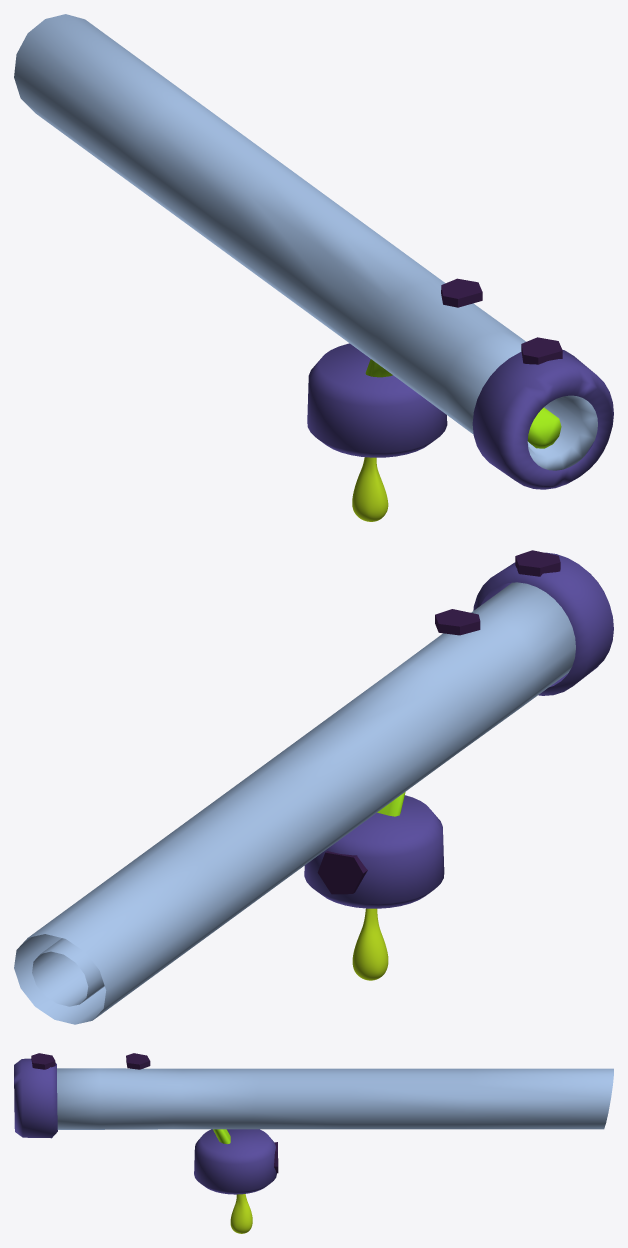
The model's file is enter_Alt.fbx.
3 renders of one model, top to bottom at view 1: azimuth 30°, elevation 25°; view 2: azimuth 150°, elevation 25°; view 3: azimuth 270°, elevation 25°, orthographic. The views are drawn at different scales.
Visible parts, largest first — view 1: Vert.005, Circle.020, Circle, Cube.176, Vert.025, Vert.022, Vert.020; view 2: Vert.005, Circle, Circle.020, Cube.176, Vert.019, Vert.022, Vert.020; view 3: Vert.005, Circle, Circle.020, Cube.176, Vert.022, Vert.020.
Boxes of the visible parts, <box> form: Vert.005: <box>14,14,597,470</box>; Circle.020: <box>472,349,613,489</box>; Circle: <box>307,343,447,457</box>; Cube.176: <box>352,457,388,521</box>; Vert.025: <box>365,359,561,448</box>; Vert.022: <box>441,278,482,307</box>; Vert.020: <box>521,337,562,364</box>; Vert.005: <box>14,582,575,1024</box>; Circle: <box>304,795,444,908</box>; Circle.020: <box>473,552,613,695</box>; Cube.176: <box>352,908,388,980</box>; Vert.019: <box>317,851,367,894</box>; Vert.022: <box>435,609,480,635</box>; Vert.020: <box>515,550,560,576</box>; Vert.005: <box>57,1068,613,1129</box>; Circle: <box>194,1129,276,1194</box>; Circle.020: <box>14,1058,57,1138</box>; Cube.176: <box>230,1194,252,1233</box>; Vert.022: <box>126,1053,150,1069</box>; Vert.020: <box>31,1053,55,1069</box>.
Bounding box in the file's own units: 1093 × 2544 × 7916.
